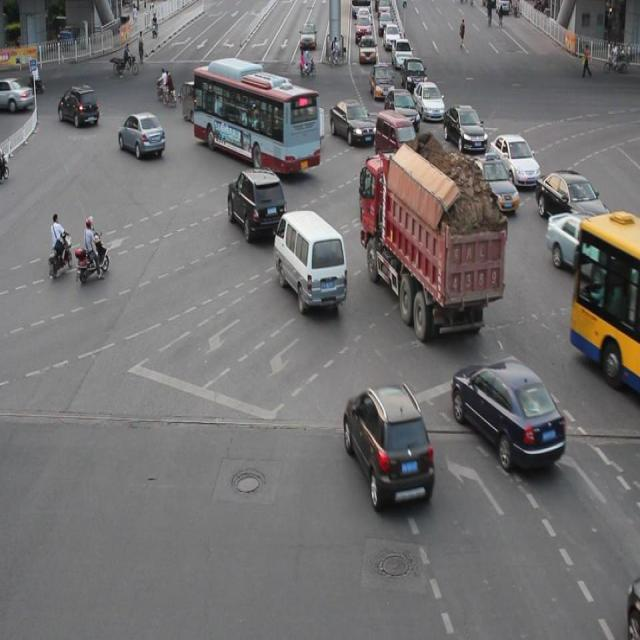bus: (359, 156, 503, 336)
car: (450, 357, 565, 470), (343, 383, 433, 508), (544, 211, 626, 284), (534, 167, 610, 237), (228, 166, 287, 243), (467, 154, 518, 216), (488, 132, 538, 189), (374, 110, 416, 167), (328, 98, 375, 147), (118, 111, 165, 159), (442, 104, 486, 152), (383, 87, 418, 129)
truck: (272, 208, 346, 310), (394, 156, 444, 213)
van: (192, 63, 320, 173), (570, 212, 640, 395)
